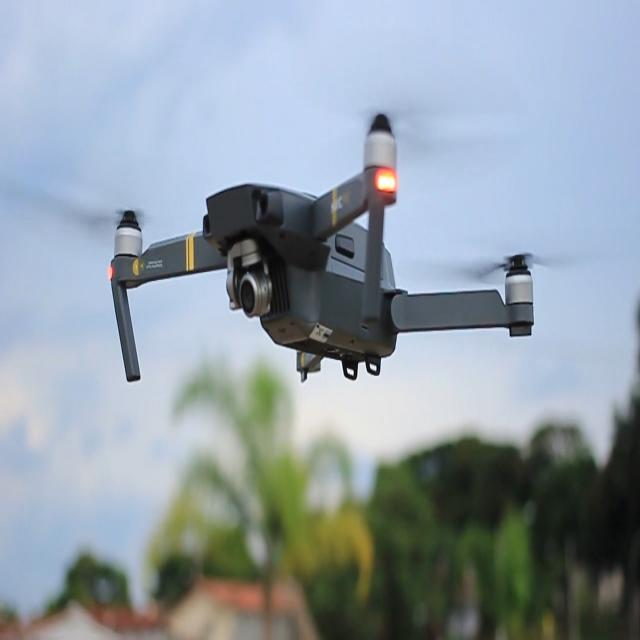Drone: (112, 116, 538, 384)
